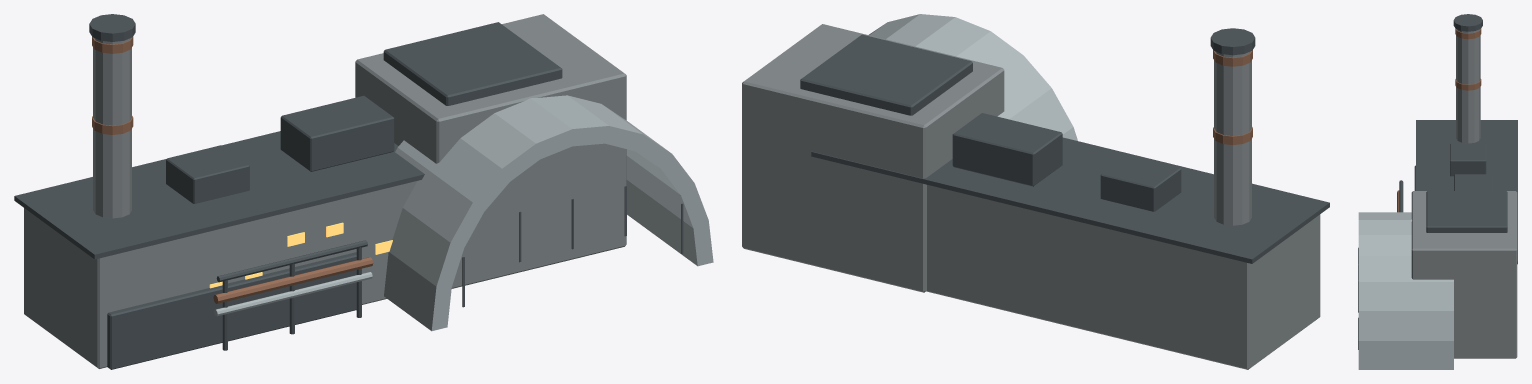
The model's file is chernobyl-station.glb.
The picture shows the model from 3 angles, left to right: view 1: azimuth 30°, elevation 25°; view 2: azimuth 150°, elevation 25°; view 3: azimuth 270°, elevation 25°; orthographic projection. The views are drawn at different scales.
Visible parts, largest first — view 1: Station_Concrete, Station_Dark_Metal, Confinement_Cold_Metal, Station_Muted_Rust, Station_Dim_Amber; view 2: Station_Concrete, Station_Dark_Metal, Confinement_Cold_Metal, Station_Muted_Rust; view 3: Station_Concrete, Confinement_Cold_Metal, Station_Dark_Metal, Station_Muted_Rust.
Boxes of the visible parts, x1,y1,x2,y2 form: Station_Concrete: (24,14,626,368); Station_Dark_Metal: (14,14,683,369); Confinement_Cold_Metal: (214,95,713,331); Station_Muted_Rust: (92,36,373,303); Station_Dim_Amber: (209,222,392,288); Station_Concrete: (742,24,1320,369); Station_Dark_Metal: (800,28,1329,263); Confinement_Cold_Metal: (869,14,1077,140); Station_Muted_Rust: (1213,50,1252,145); Station_Concrete: (1411,29,1517,358); Confinement_Cold_Metal: (1358,212,1453,369); Station_Dark_Metal: (1358,14,1517,349); Station_Muted_Rust: (1397,28,1481,212).
Size of the model in its own units: 16.27 by 8.28 by 6.2.
